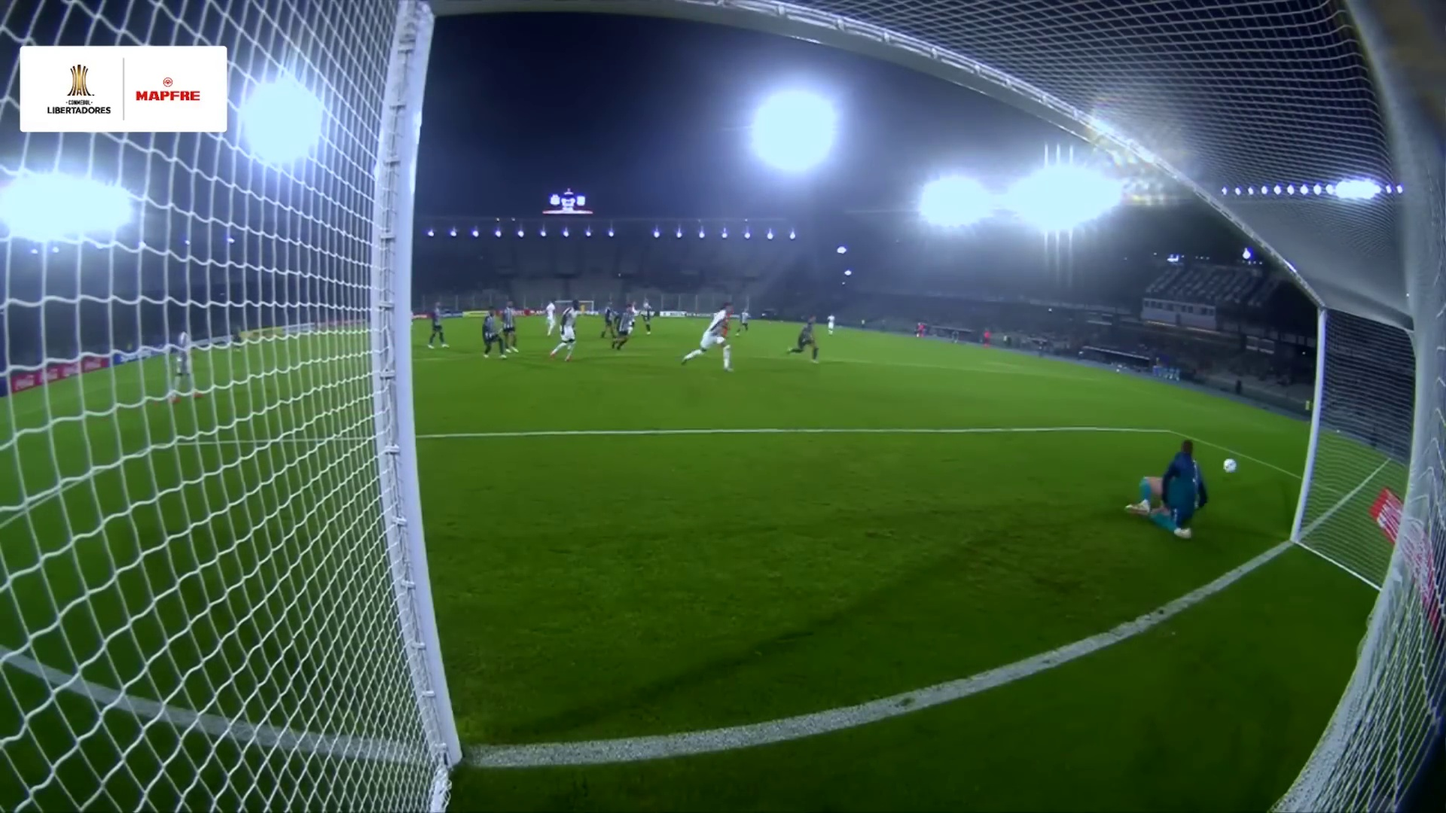ball: (1222, 456, 1238, 474)
player: (1123, 438, 1210, 540), (680, 302, 740, 373), (166, 325, 202, 406), (786, 315, 824, 364), (549, 304, 581, 362), (498, 301, 525, 355), (479, 308, 505, 361), (610, 303, 637, 353), (425, 302, 449, 350), (598, 300, 616, 342), (544, 298, 562, 338), (639, 298, 657, 335), (735, 308, 751, 338), (827, 313, 835, 336)
